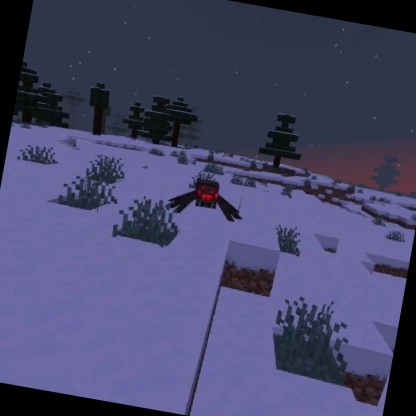spider: (163, 170, 252, 230)
